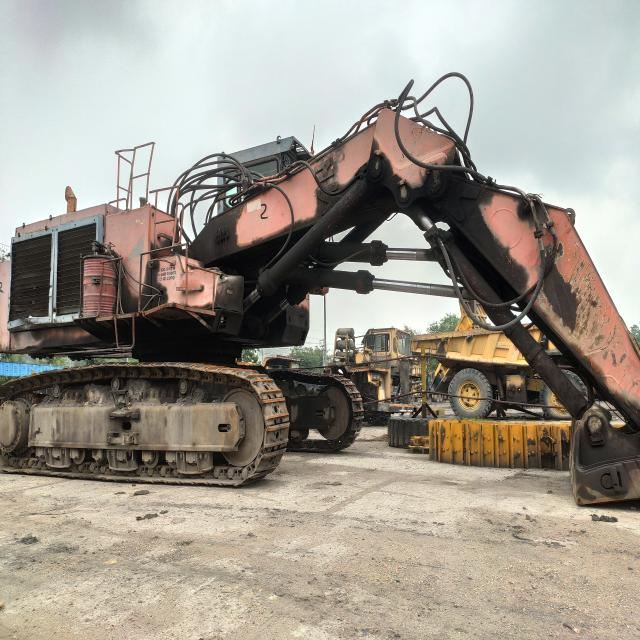excavator: (0, 92, 640, 504)
